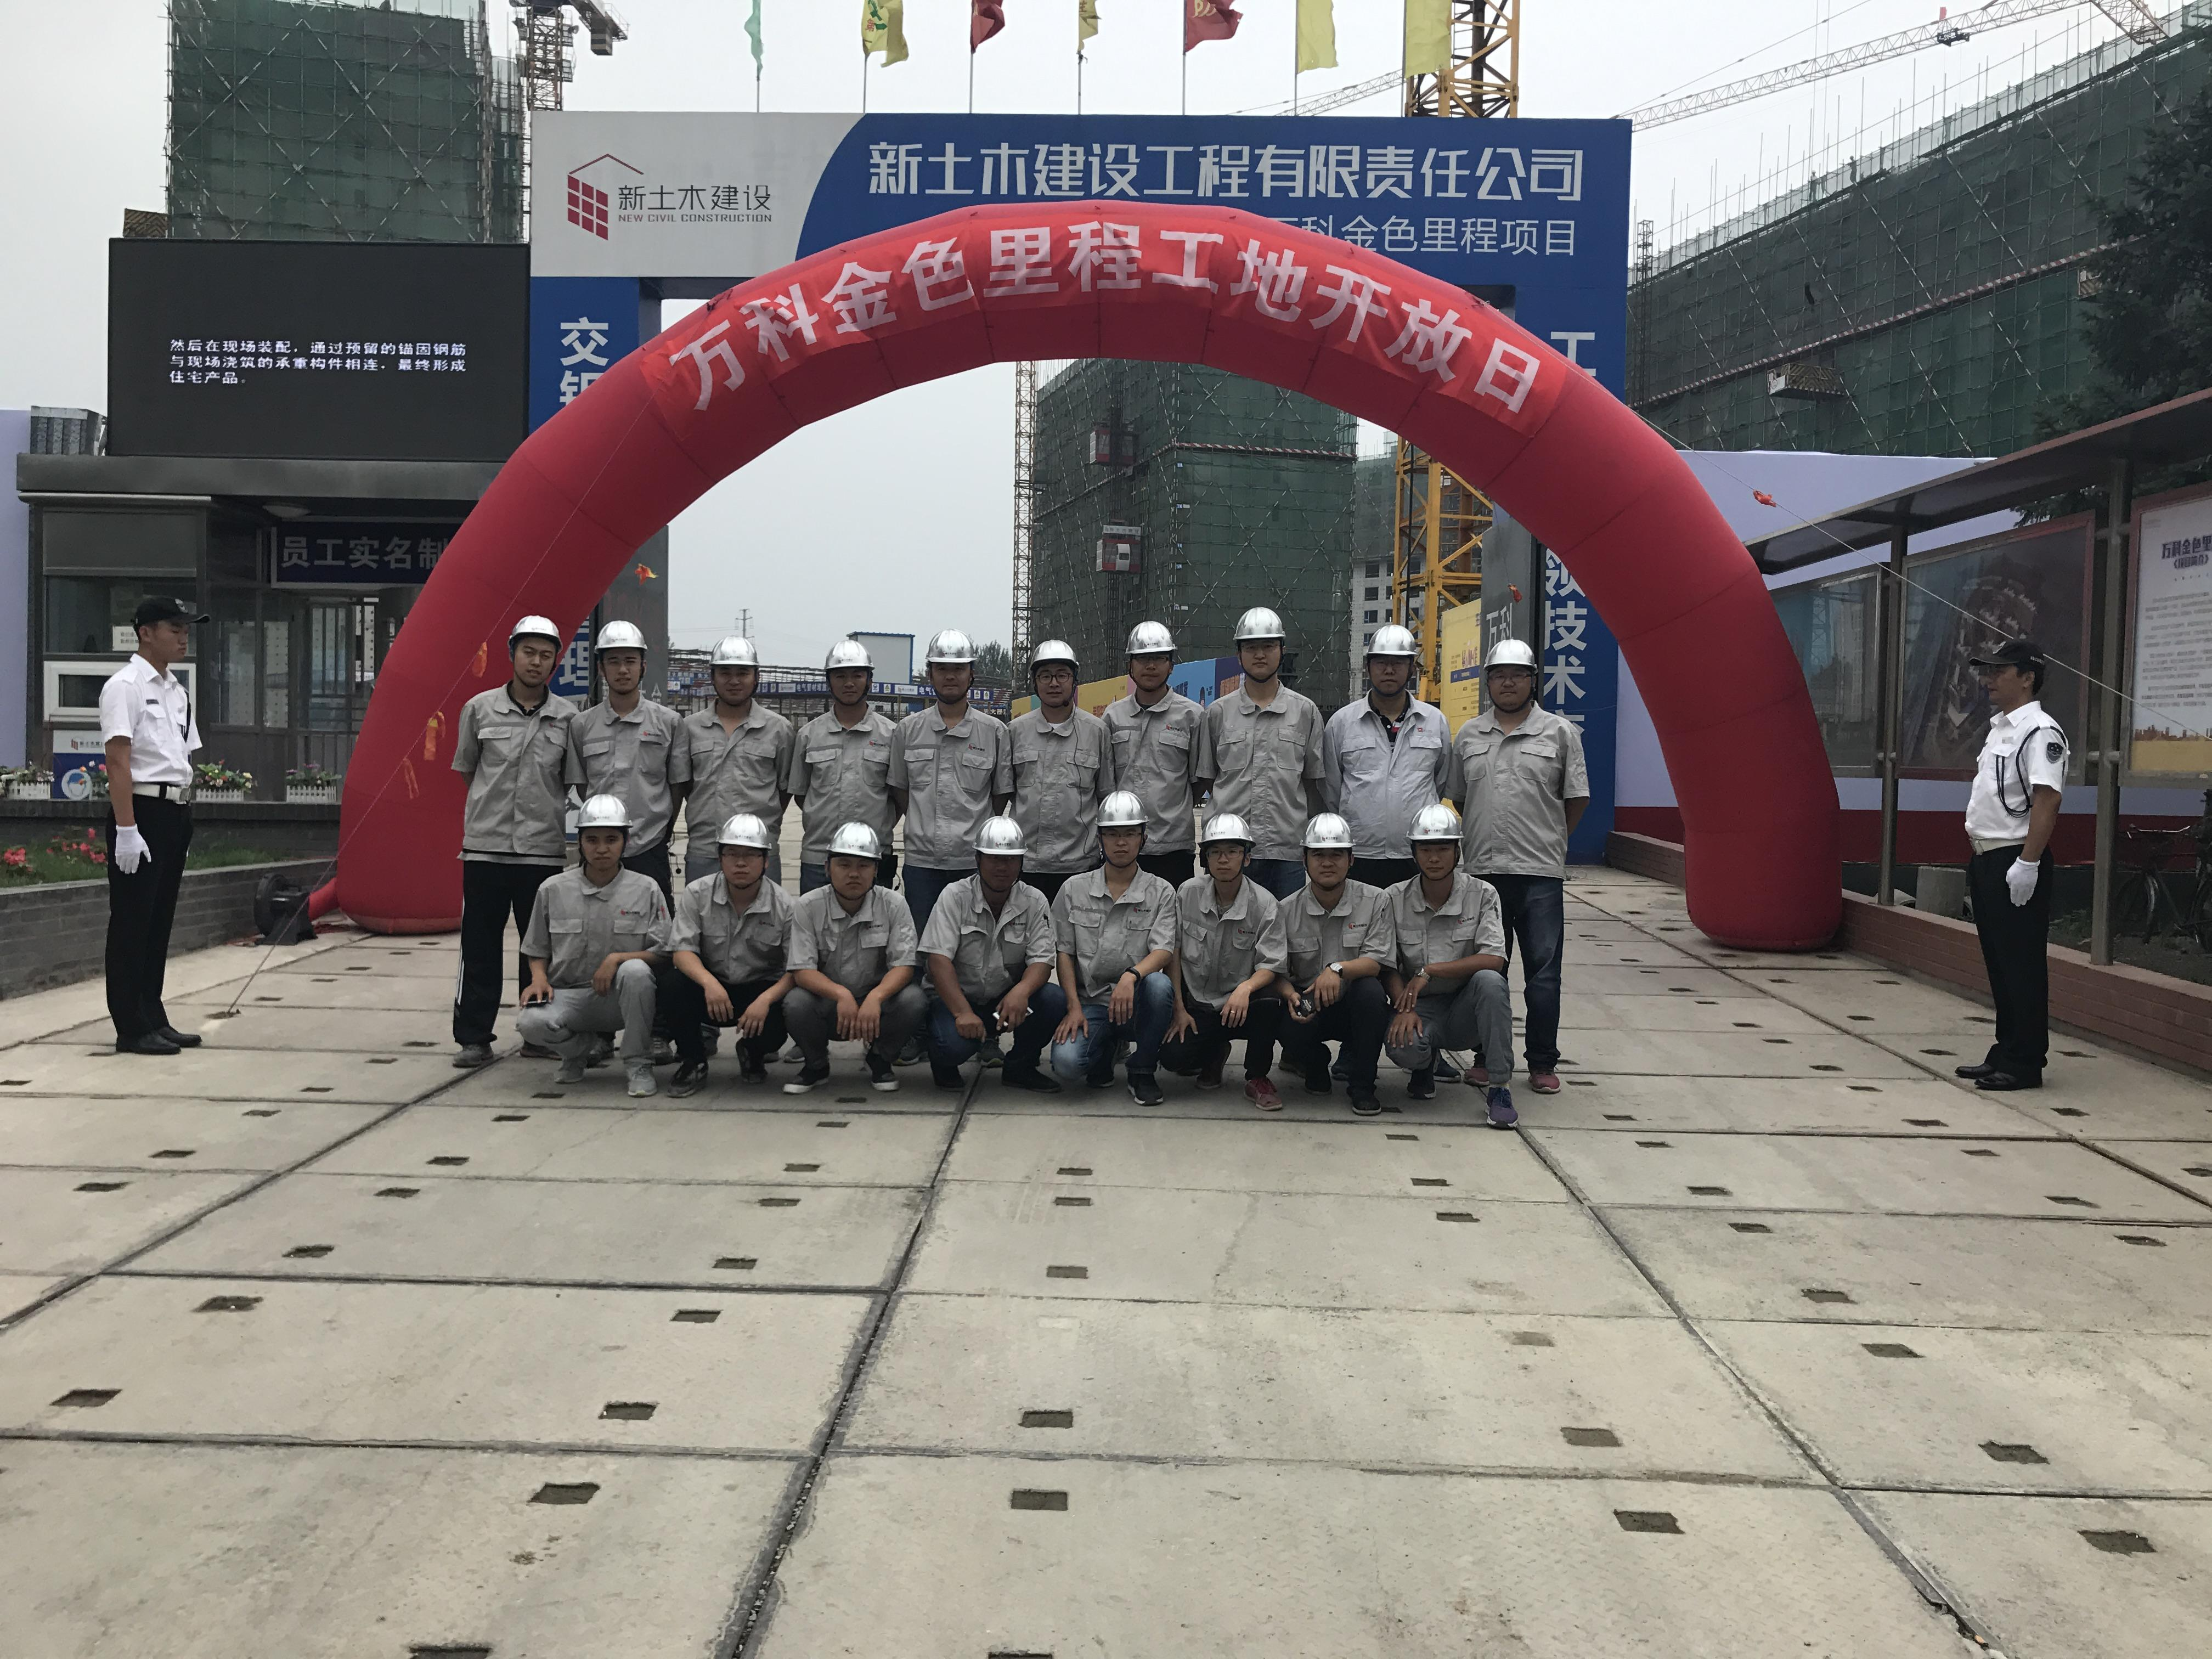helmet: (718, 812, 773, 854), (1407, 803, 1463, 843), (824, 824, 883, 861), (975, 817, 1028, 856), (1301, 814, 1353, 852), (1233, 608, 1287, 645), (582, 798, 629, 840), (1202, 814, 1256, 849), (1127, 622, 1181, 657), (507, 617, 563, 650), (1487, 638, 1540, 671), (928, 631, 975, 666), (1099, 793, 1148, 826), (1366, 626, 1416, 657), (711, 638, 756, 671), (596, 624, 648, 650), (826, 643, 871, 673), (1031, 640, 1076, 666)
